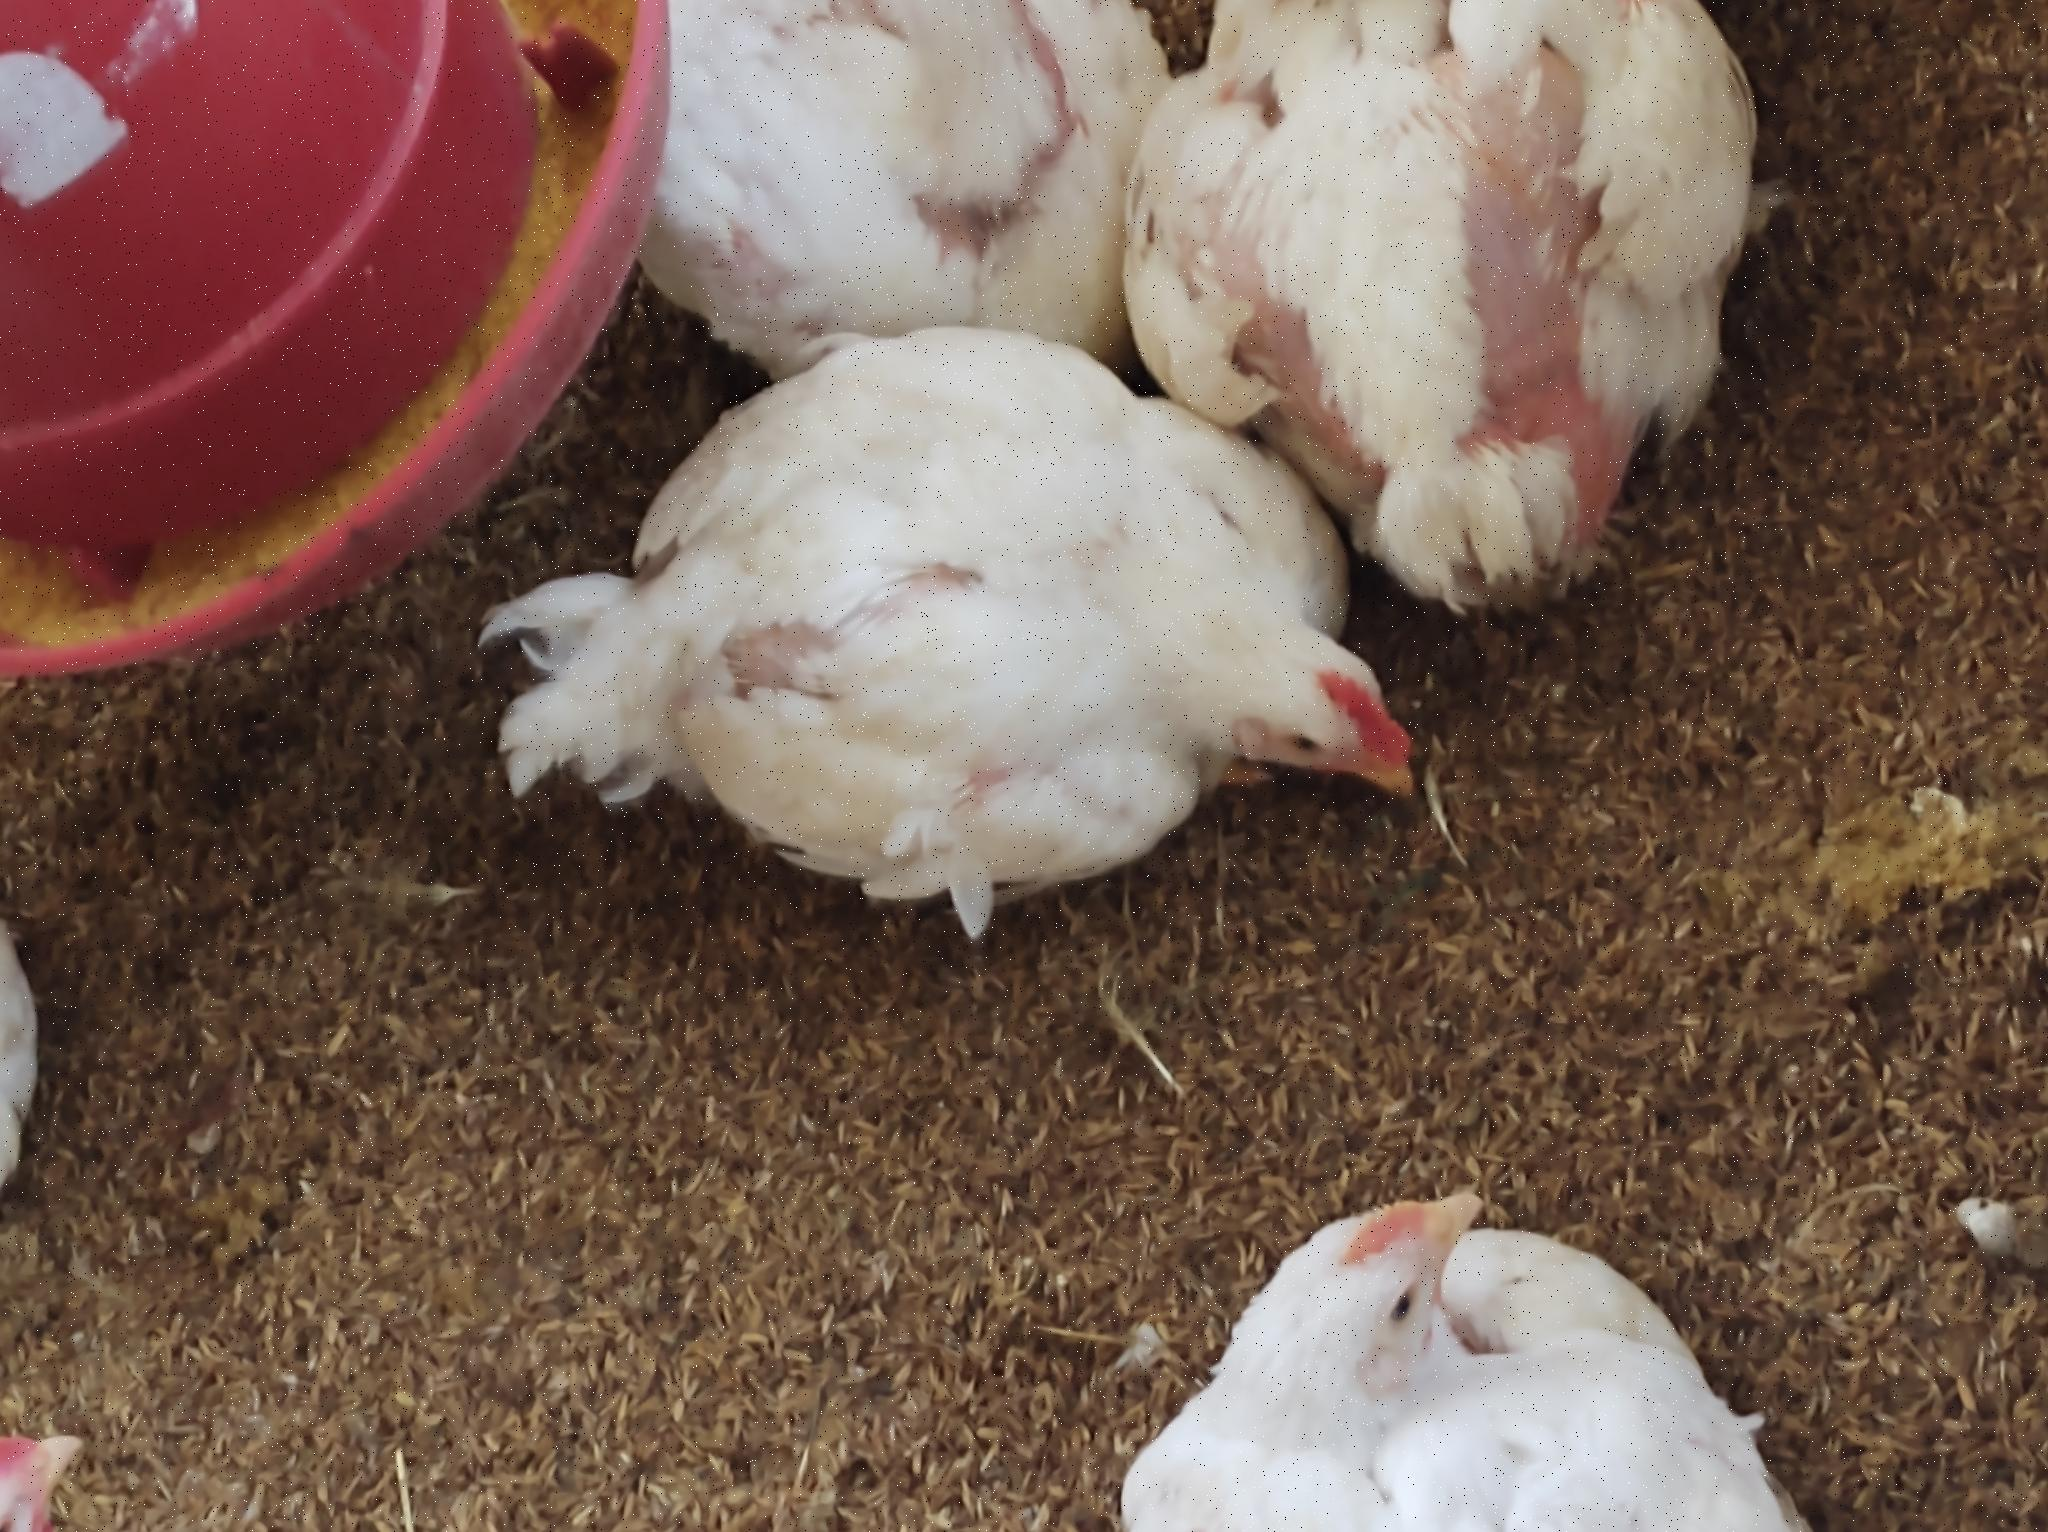Pollos: (507, 351, 1467, 935), (1112, 2, 1794, 579), (1052, 1086, 1868, 1532), (629, 2, 1210, 438)
